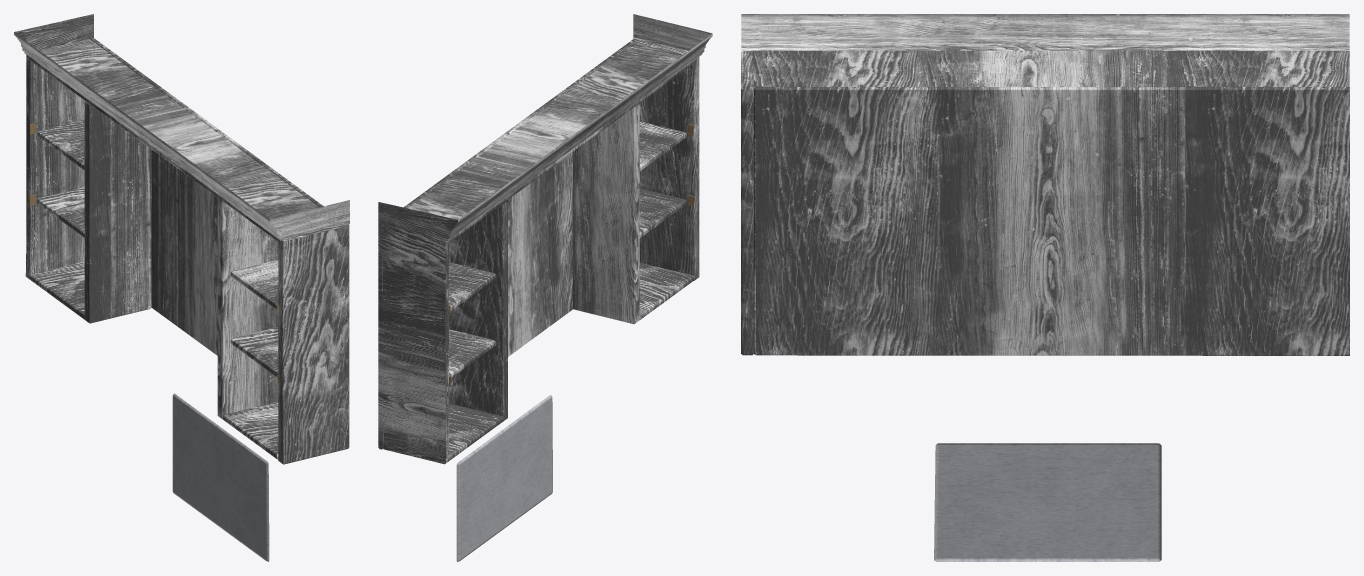
File: SM_KitchenSet_B2.fbx
3 views of the same model, side by side, from view 1: azimuth 30°, elevation 25°; view 2: azimuth 150°, elevation 25°; view 3: azimuth 270°, elevation 25° (orthographic). The views are drawn at different scales.
Visible parts, largest first — view 1: SM_KitchenSet_B2; view 2: SM_KitchenSet_B2; view 3: SM_KitchenSet_B2.
Part boxes in pixels (box(x1,y1,x2,y2)): SM_KitchenSet_B2: box(14, 14, 349, 561); SM_KitchenSet_B2: box(378, 14, 712, 561); SM_KitchenSet_B2: box(741, 14, 1349, 561).
Bounding box in the file's own units: 32.65 × 180 × 164.
3 materials, 3 textured.
